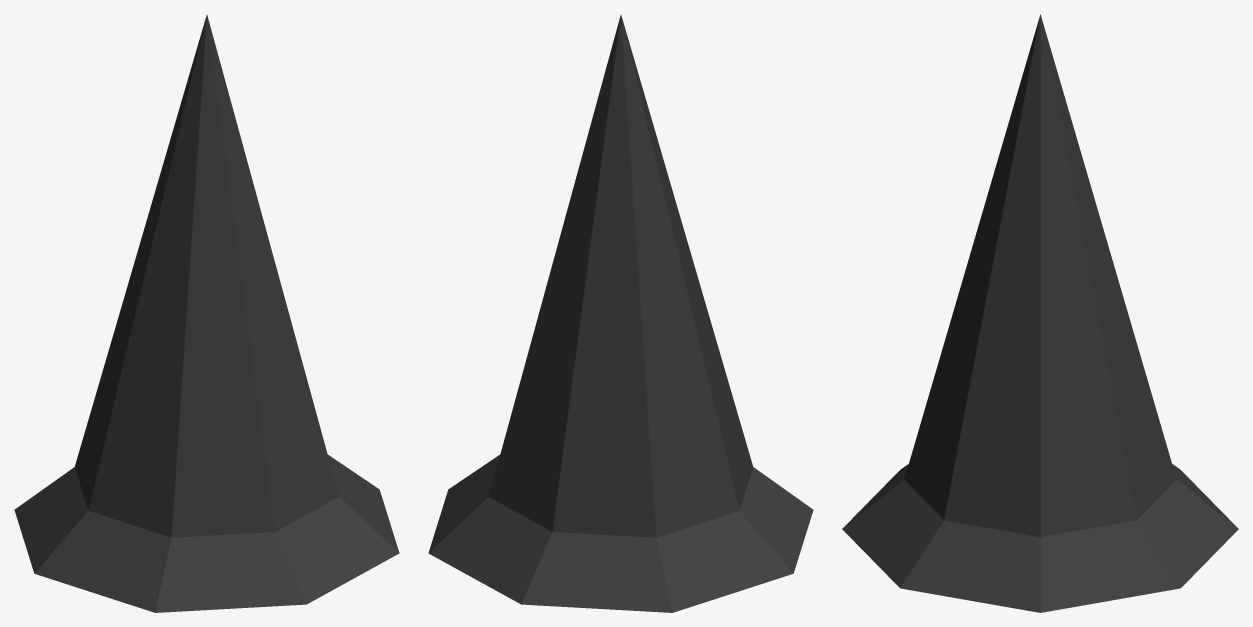
The model's file is Stal_2A_LOD.fbx.
The picture shows the model from 3 angles, left to right: view 1: azimuth 30°, elevation 25°; view 2: azimuth 150°, elevation 25°; view 3: azimuth 270°, elevation 25°; orthographic projection.
Parts seen in each view (by area): view 1: pCone26; view 2: pCone26; view 3: pCone26.
Boxes of the visible parts, x1,y1,x2,y2 form: pCone26: [14, 15, 399, 612]; pCone26: [428, 15, 813, 612]; pCone26: [842, 14, 1238, 612].
Bounding box in the file's own units: 0.6982 × 1 × 0.6982.
